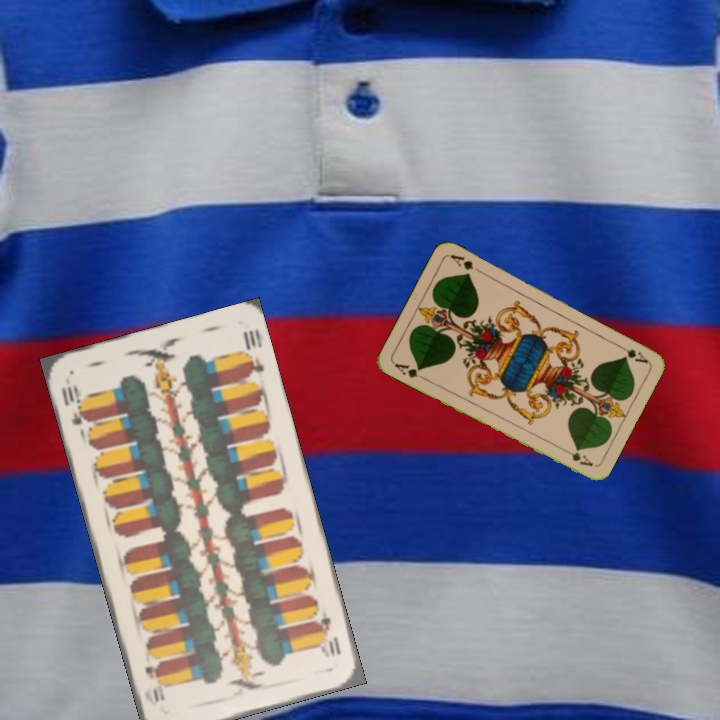E10: (57, 381, 92, 428), (312, 608, 344, 659)
GA: (613, 340, 651, 366), (390, 359, 428, 383)
